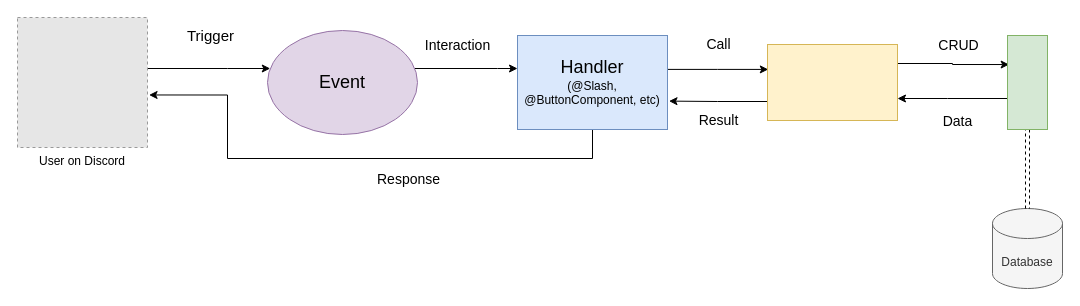
Some shapes in this 1080 by 306 pixel diagram are drawn without their labels. Grey dashed boxes stand in for pictures. The shapes that lost their labels are listed below. From the top down, each one's centre as x and y in pixels, then its label:
At (832,82): "Services / Utilities".
At (1027,82): "ORM".
